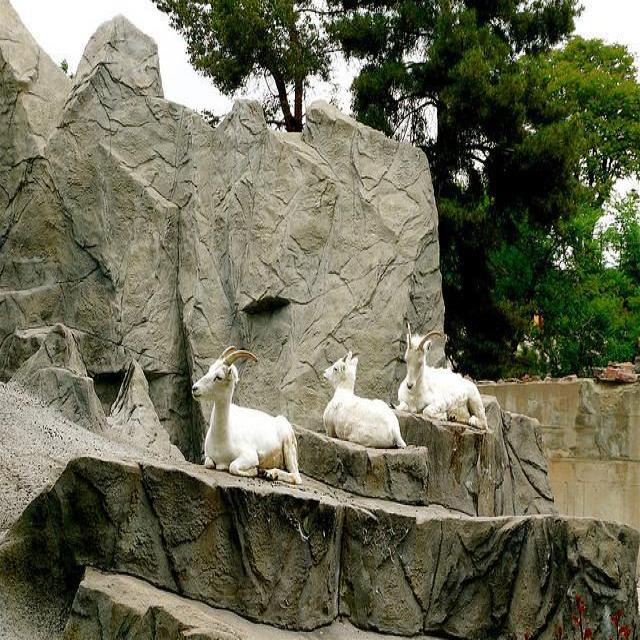Sheep: (192, 345, 303, 485), (394, 320, 489, 428), (323, 350, 409, 450)
